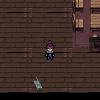Hide: (86, 33, 100, 52)
Obstacle: (68, 12, 87, 34), (87, 12, 100, 34)
Victim: (43, 39, 56, 61)
Win: (31, 74, 44, 92)
